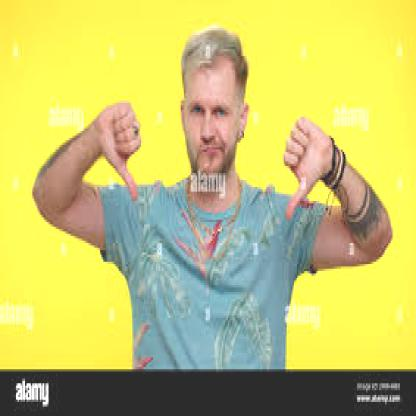Thumbs Down: (79, 81, 156, 210), (279, 100, 339, 221)
